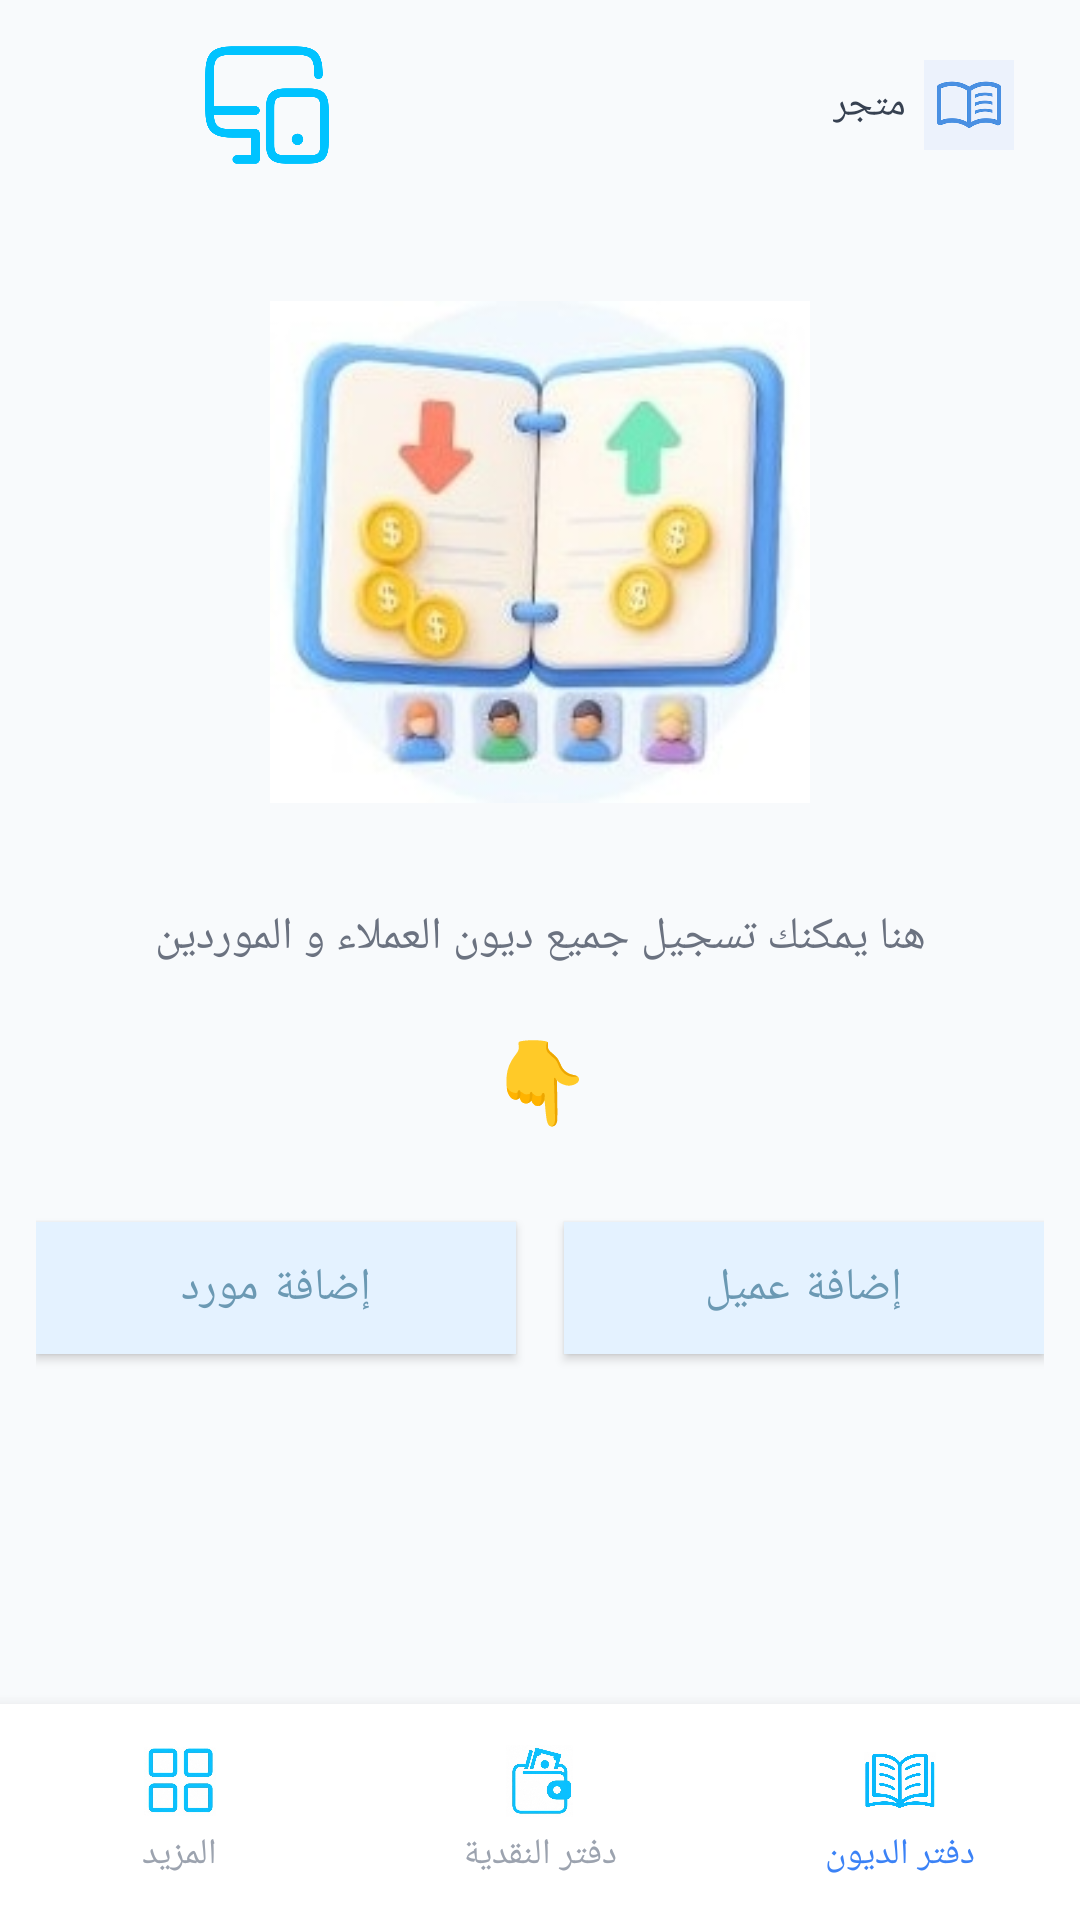

Icon click points for this 1080*1920 phone screenshot, format (x=x, y=y):
book: (x=900, y=1781)
pc phone: (x=267, y=105)
wallet: (x=541, y=1781)
